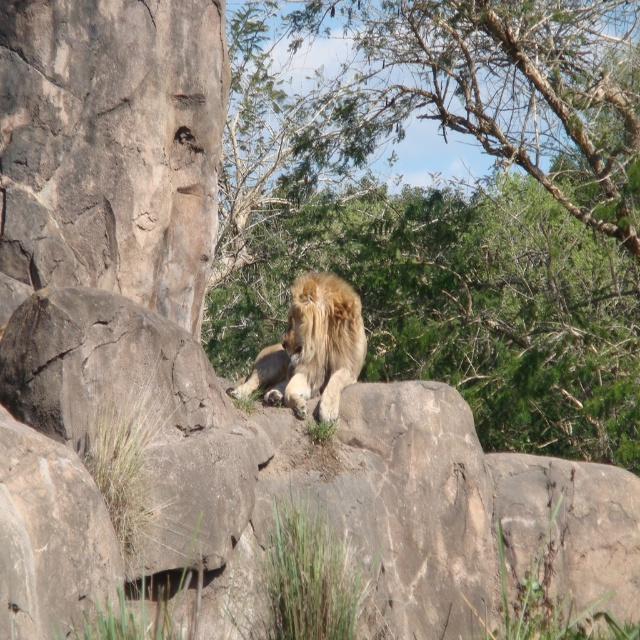Lion: (230, 270, 368, 429)
